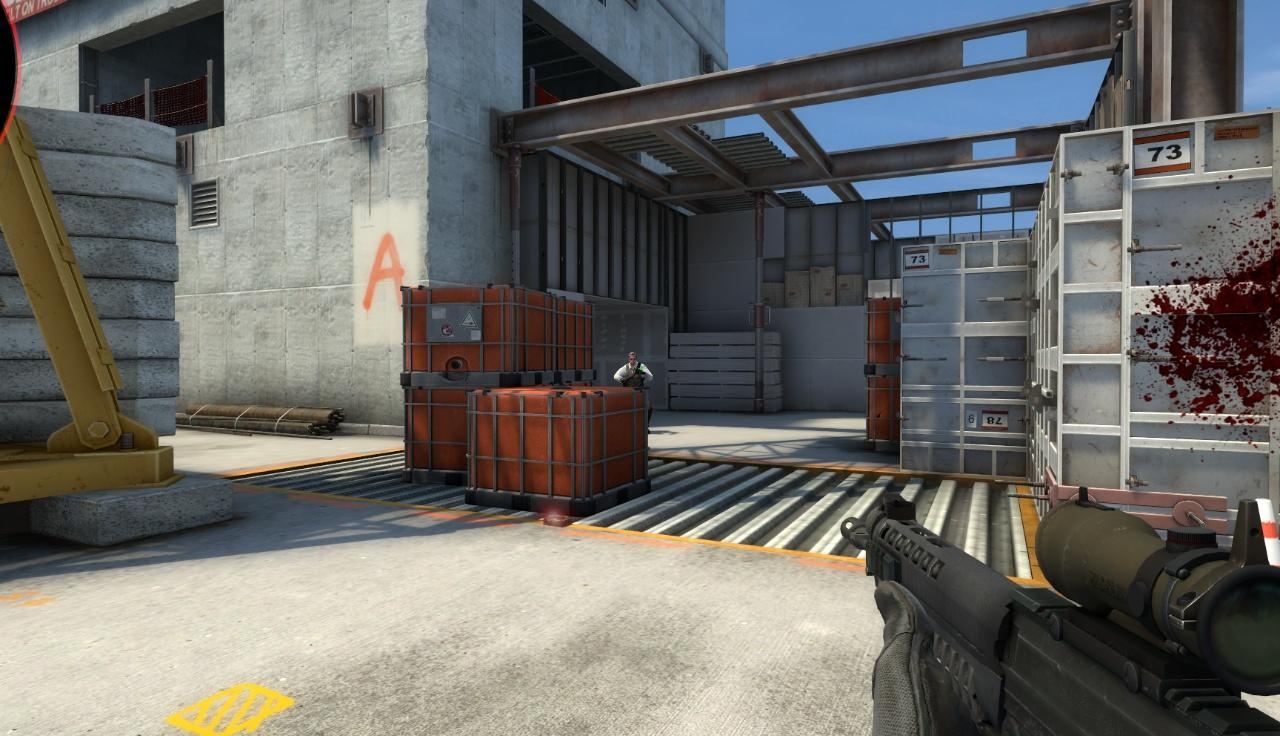rifle: (836, 483, 1280, 736)
tt: (613, 351, 653, 388)
tthead: (628, 351, 637, 366)
